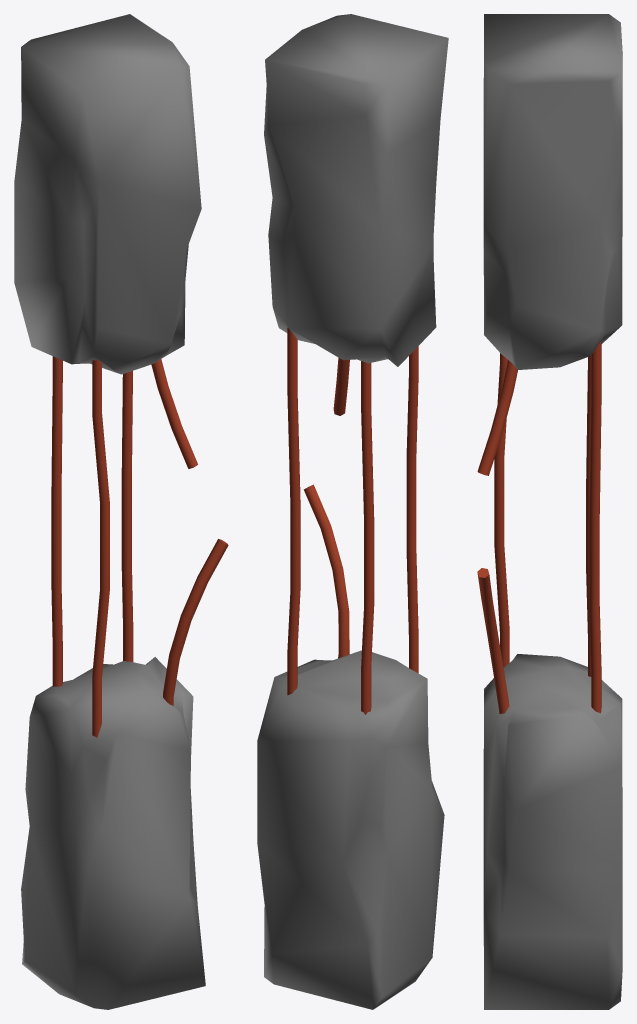
Rendered from SM_pillar_broken_03.fbx.
3 views of the same model, side by side, from view 1: azimuth 30°, elevation 25°; view 2: azimuth 150°, elevation 25°; view 3: azimuth 270°, elevation 25° (orthographic).
Size of the model in its own units: 22.32 by 136 by 19.13.
